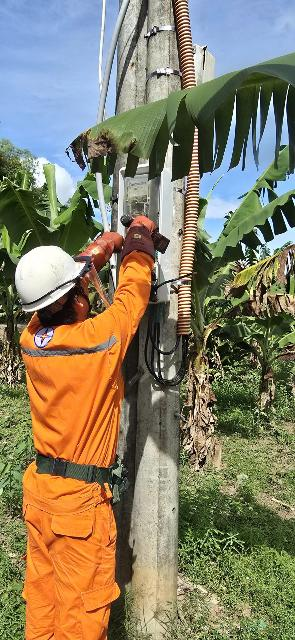gloves: (57, 231, 137, 274), (115, 210, 163, 263)
harness: (13, 438, 121, 501)
helmet: (0, 232, 99, 315)
